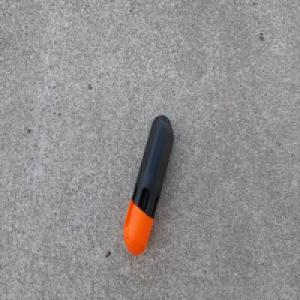PlasticPart: (122, 114, 174, 260)
